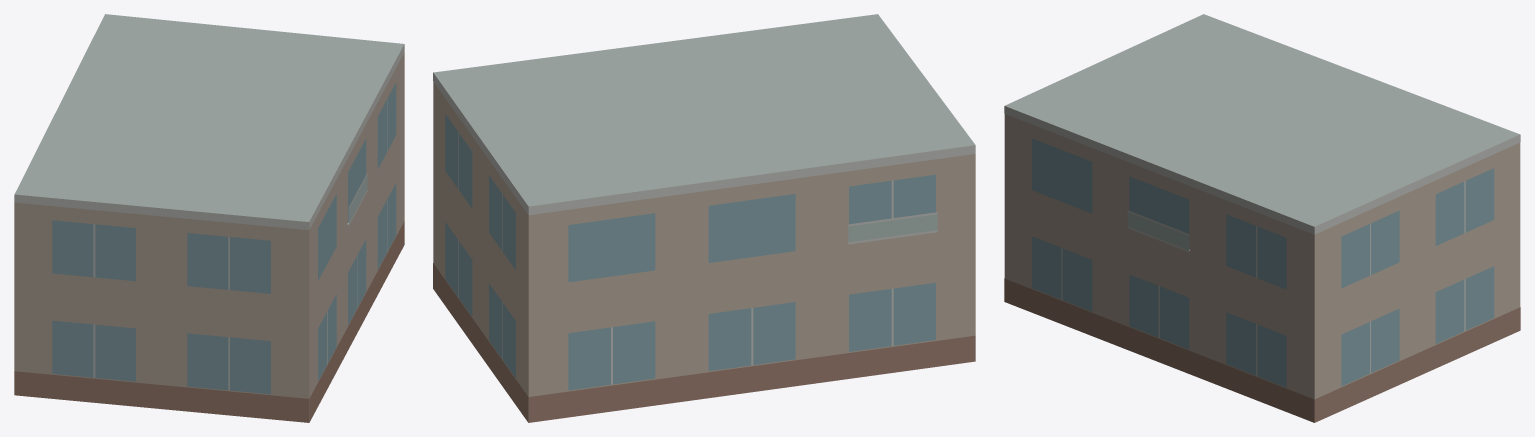
The model's file is survey-upis-33003730.glb.
The picture shows the model from 3 angles, left to right: view 1: azimuth 30°, elevation 25°; view 2: azimuth 150°, elevation 25°; view 3: azimuth 270°, elevation 25°; orthographic projection. The views are drawn at different scales.
Visible parts, largest first — view 1: survey-upis-33003730.tmp; view 2: survey-upis-33003730.tmp; view 3: survey-upis-33003730.tmp.
Boxes of the visible parts, <box> form: survey-upis-33003730.tmp: <box>14,14,404,422</box>; survey-upis-33003730.tmp: <box>433,14,975,422</box>; survey-upis-33003730.tmp: <box>1004,14,1520,422</box>.
Size of the model in its own units: 14.22 by 6.1 by 14.56.
